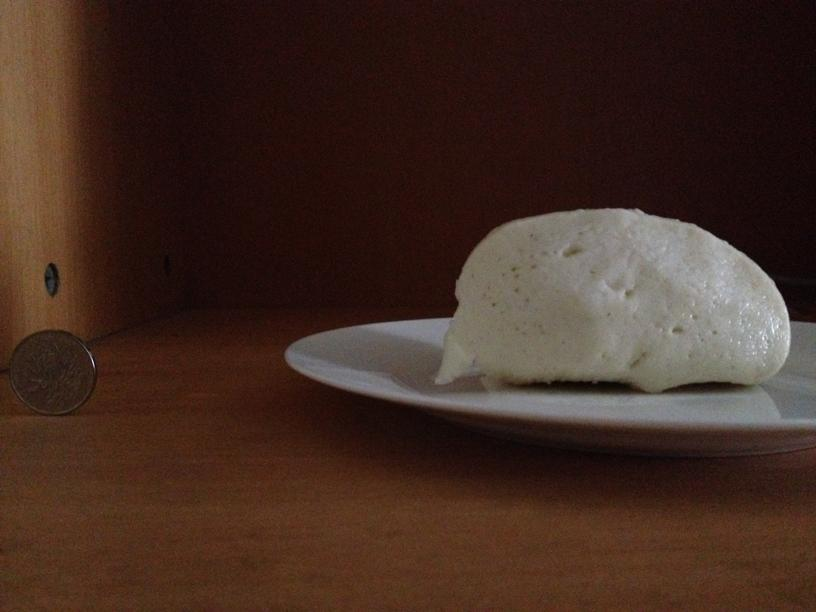bun: (439, 212, 789, 391)
coin: (8, 329, 95, 416)
